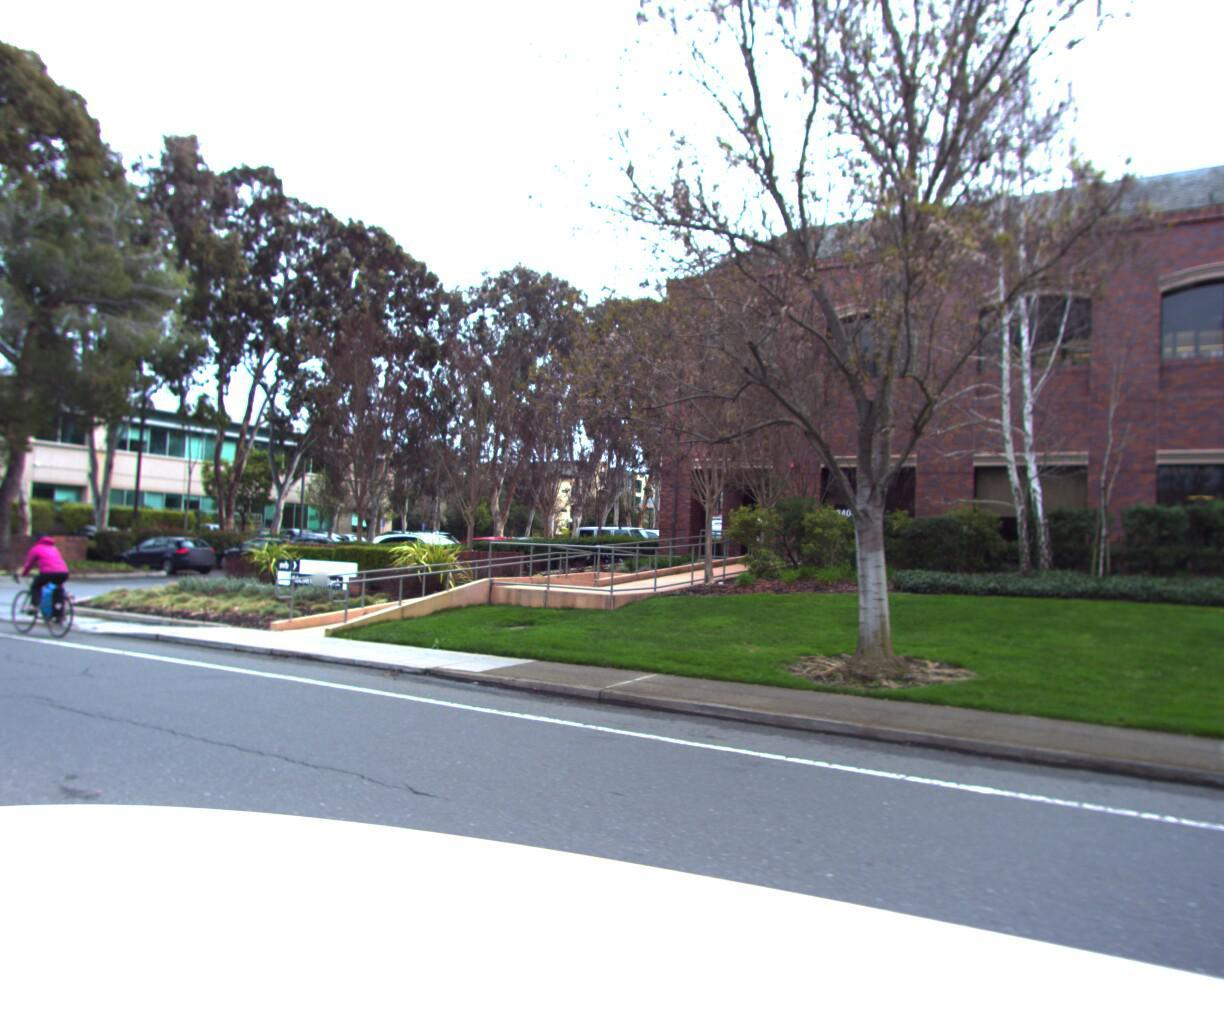bicycle: (0, 534, 91, 646)
